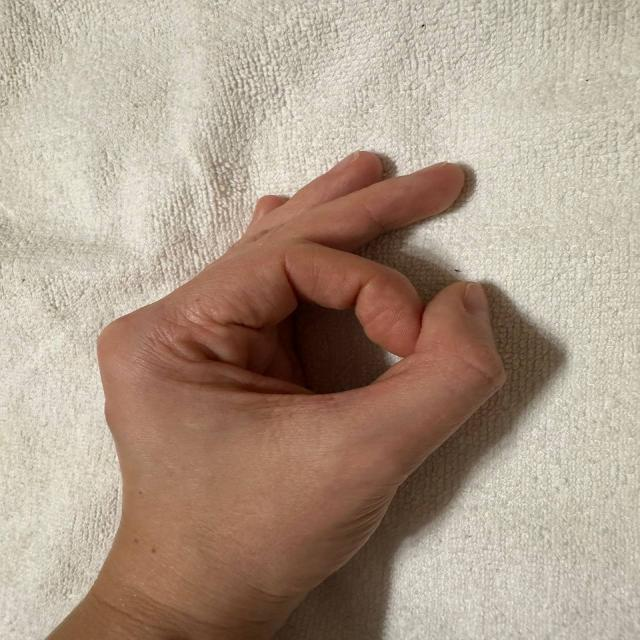o: (76, 130, 502, 532)
